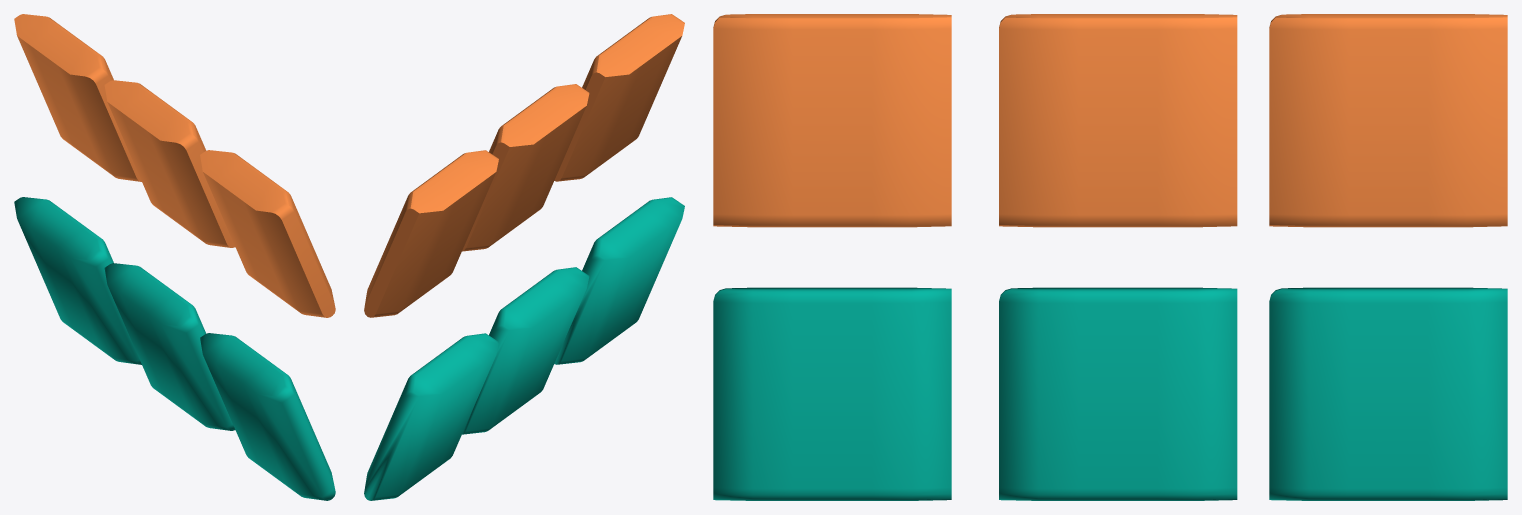
File: Pillows.fbx
3 views of the same model, side by side, from view 1: azimuth 30°, elevation 25°; view 2: azimuth 150°, elevation 25°; view 3: azimuth 270°, elevation 25° (orthographic). The views are drawn at different scales.
Parts seen in each view (by area): view 1: Pillow.001, Pillow.003, Pillow.004, Pillow, Pillow.005, Pillow.002; view 2: Pillow.002, Pillow.005, Pillow.001, Pillow.003, Pillow.004, Pillow; view 3: Pillow, Pillow.001, Pillow.004, Pillow.005, Pillow.002, Pillow.003.
Boxes of the visible parts, <box> form: Pillow.001: <box>200,333,335,500</box>; Pillow.003: <box>200,150,335,317</box>; Pillow.004: <box>104,80,235,247</box>; Pillow: <box>104,263,235,430</box>; Pillow.005: <box>14,14,141,181</box>; Pillow.002: <box>14,197,141,364</box>; Pillow.002: <box>364,333,498,500</box>; Pillow.005: <box>364,150,498,317</box>; Pillow.001: <box>554,197,684,364</box>; Pillow.003: <box>554,14,684,181</box>; Pillow.004: <box>462,84,589,251</box>; Pillow: <box>462,267,589,434</box>; Pillow: <box>999,287,1237,500</box>; Pillow.001: <box>713,287,951,500</box>; Pillow.004: <box>999,14,1237,227</box>; Pillow.005: <box>1269,14,1507,227</box>; Pillow.002: <box>1269,287,1507,500</box>; Pillow.003: <box>713,14,951,227</box>.
Bounding box in the file's own units: 14.27 × 55.48 × 85.85.
